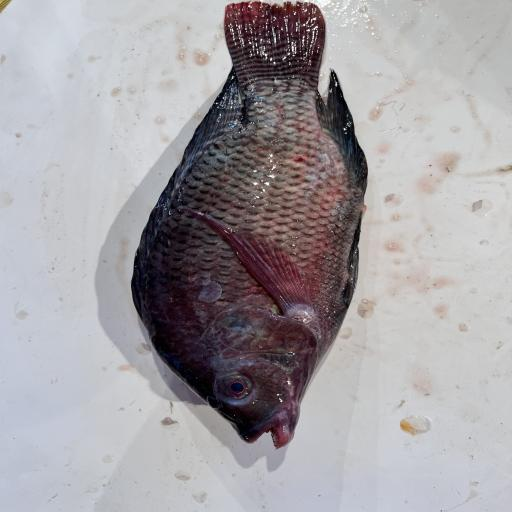Tilapia: (131, 1, 368, 450)
